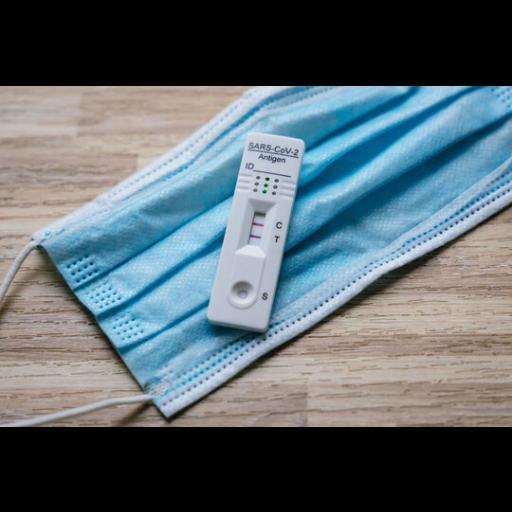Pos: (206, 132, 305, 331)
